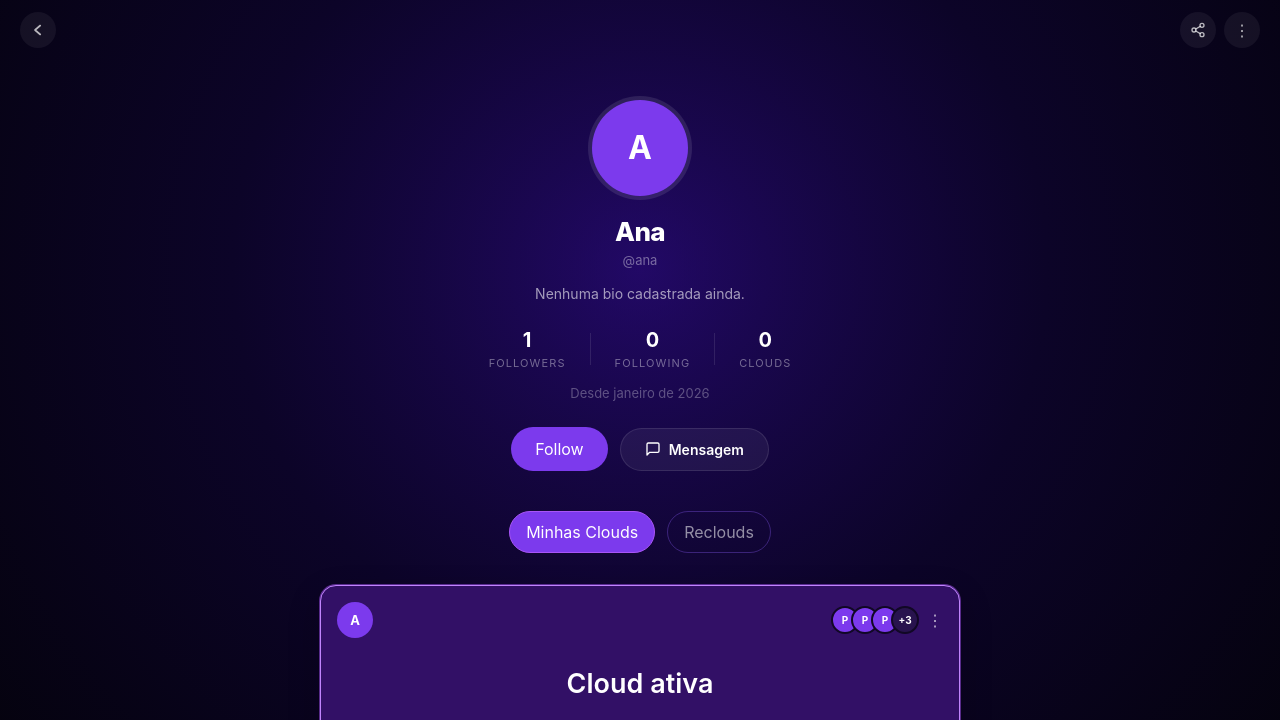
profile follow counters › opens the complete Cloud participant list on a visited profile at 1280px
Expected: the heading "Cloud ativa" is shown, [567, 667, 713, 701]
Click the button named "Ver participantes da Cloud": (875, 620) [831, 606, 919, 634]
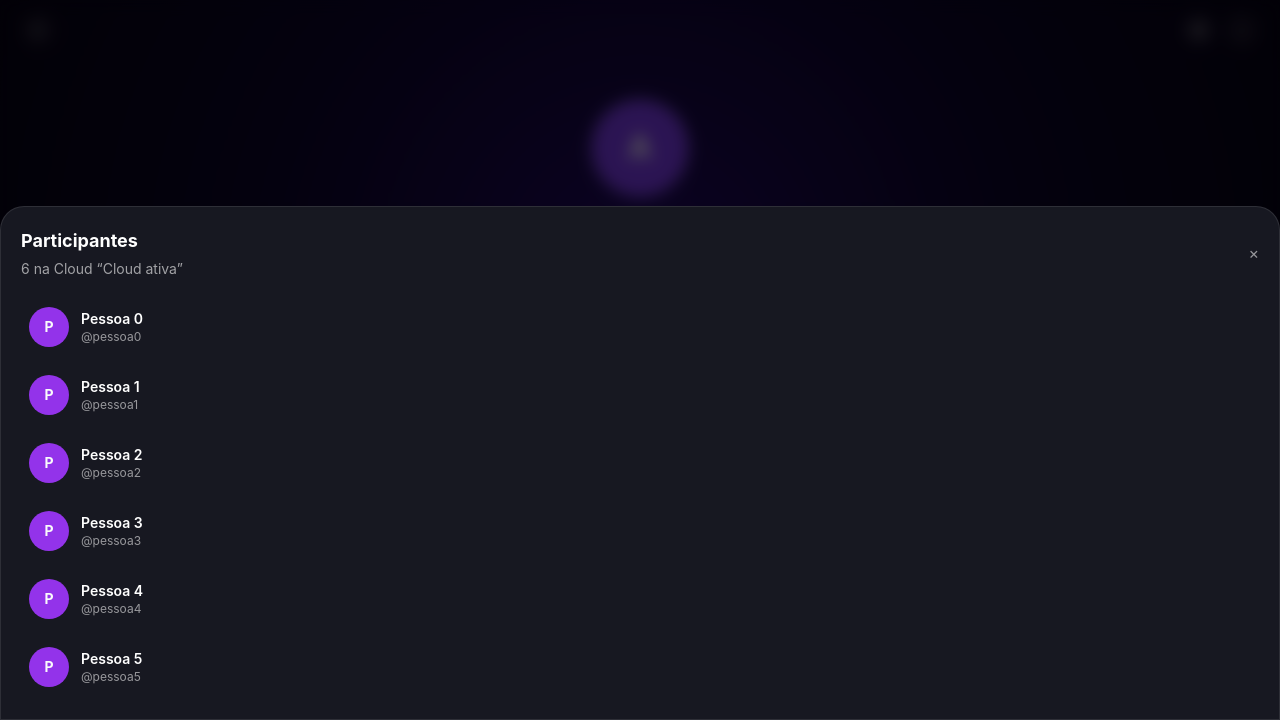
Click the button named "Fechar": (1254, 253) [1248, 241, 1259, 265]
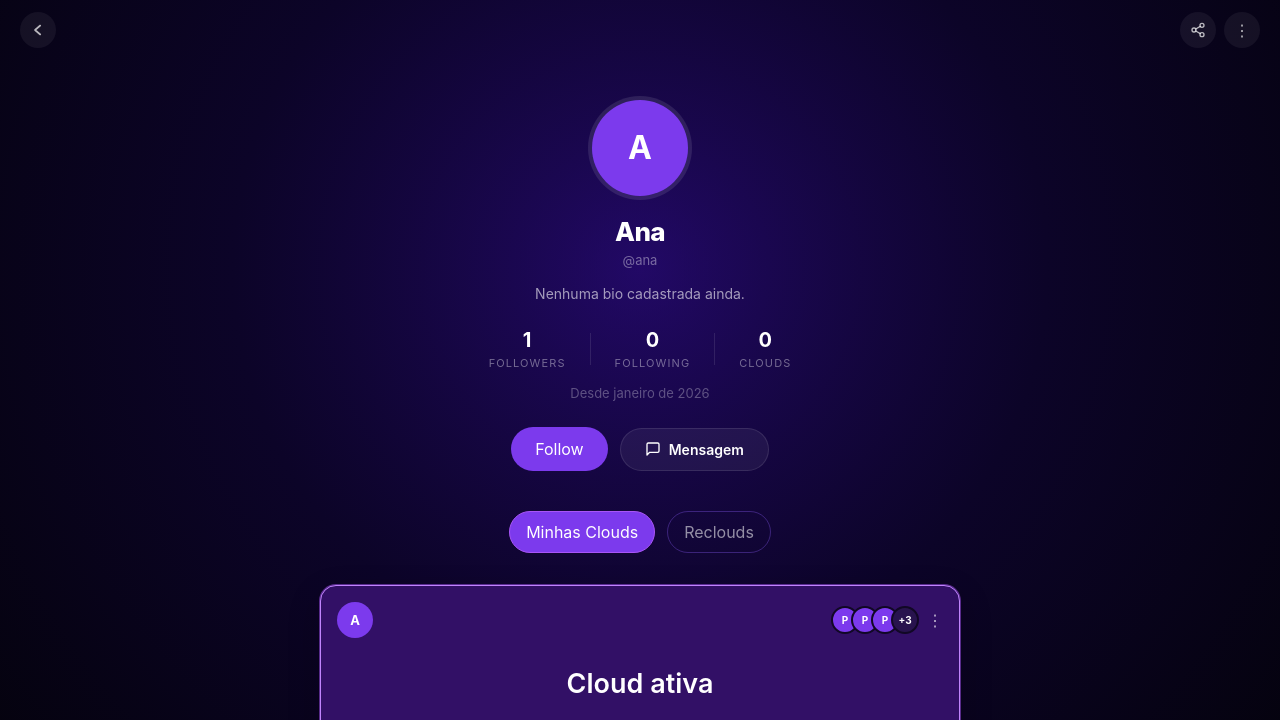
Expected: the heading "Participantes" is gone
